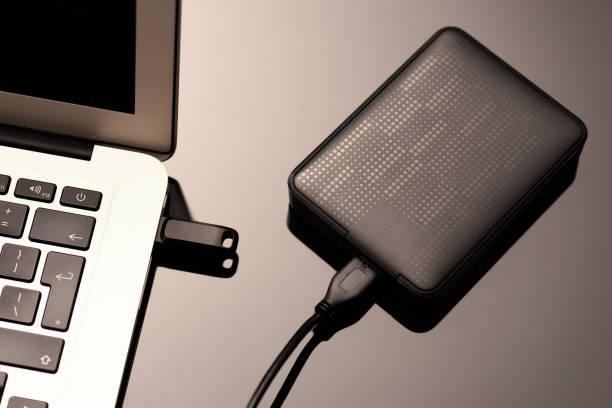HDD: (287, 28, 580, 294)
